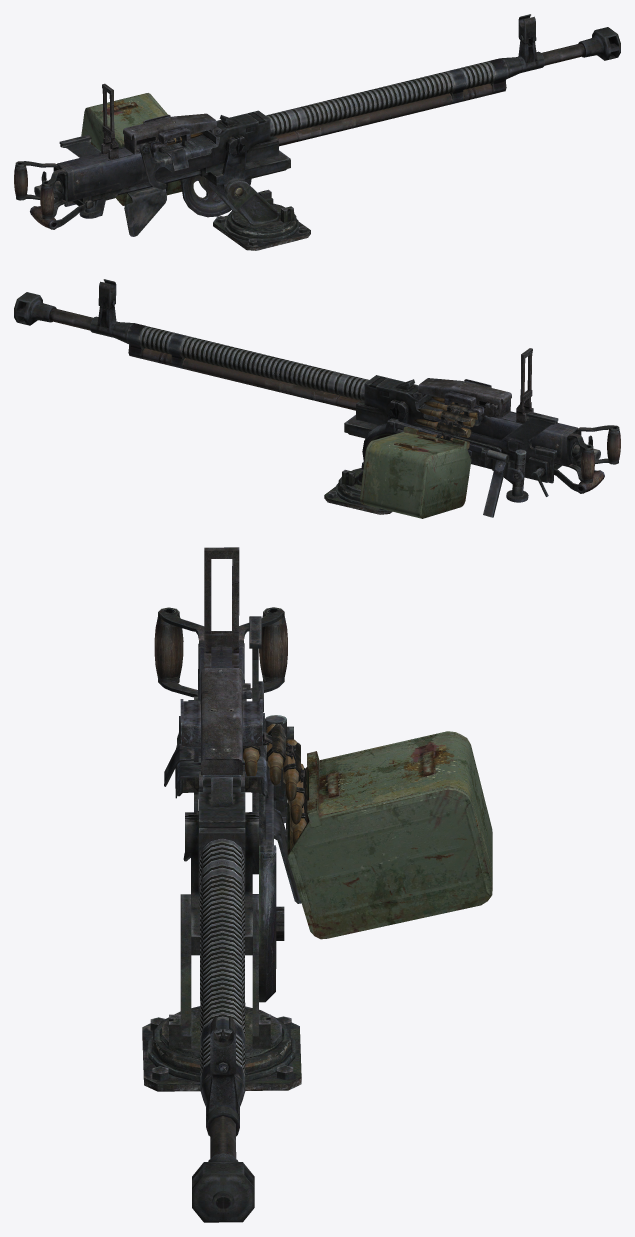
3 renders of one model, top to bottom at view 1: azimuth 30°, elevation 25°; view 2: azimuth 150°, elevation 25°; view 3: azimuth 270°, elevation 25°, orthographic. The views are drawn at different scales.
Visible parts, largest first — view 1: MG (×4); view 2: MG (×4); view 3: MG (×4).
Part boxes in pixels (left/top/right/bottom): MG (×4): left=14, top=14, right=620, bottom=250; MG (×4): left=14, top=279, right=620, bottom=518; MG (×4): left=142, top=547, right=492, bottom=1222.
Bounding box in the file's own units: 67.19 × 19.63 × 17.29.
1 material, 1 textured.
